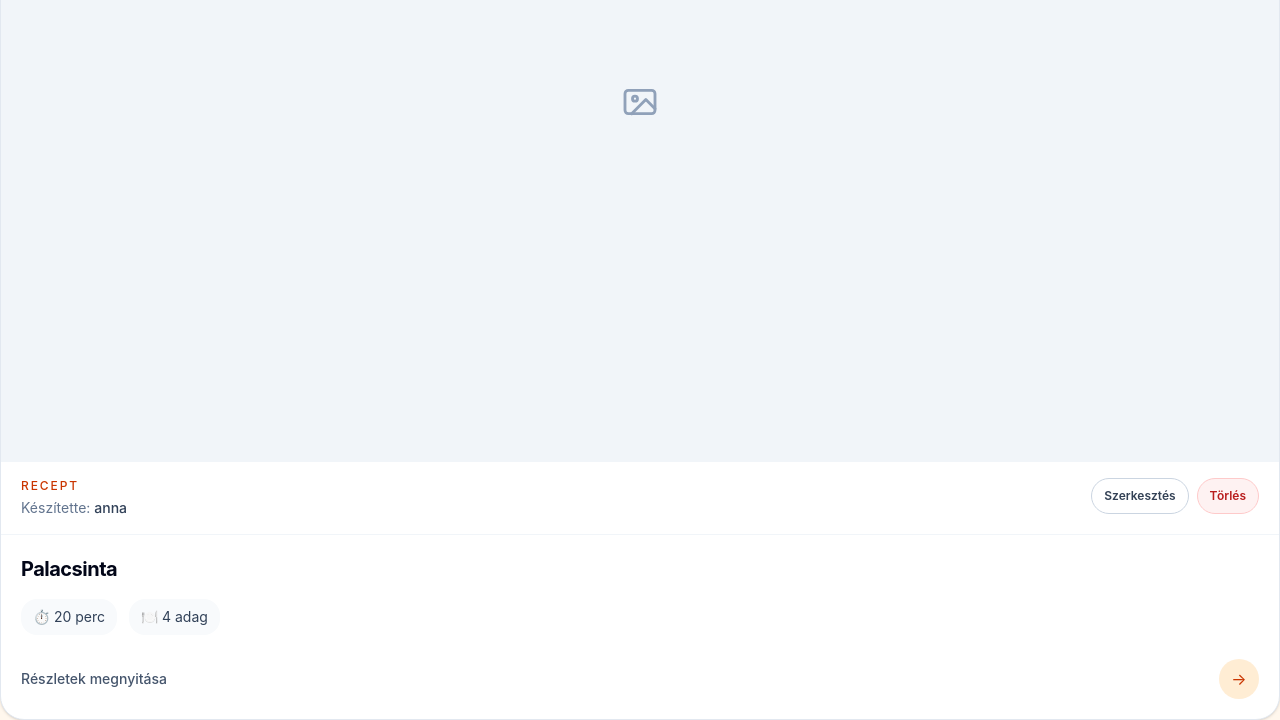
Scenario: RecipeCard › does not delete the recipe when confirmation is cancelled
The width and height of the screenshot is (1280, 720).
(page scrolled)
Click the button "Törlés" at (1228, 496), box [1197, 478, 1259, 514]
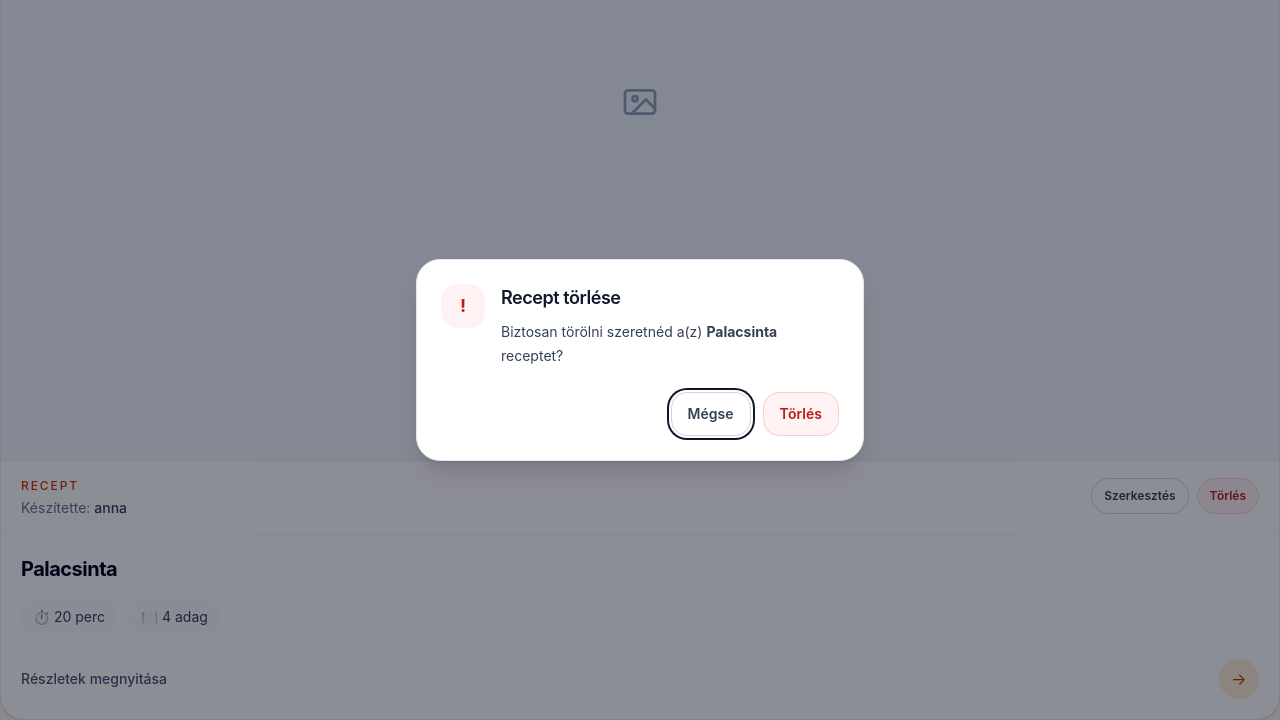
Click the button "Mégse" at (711, 414), box [671, 392, 750, 436]
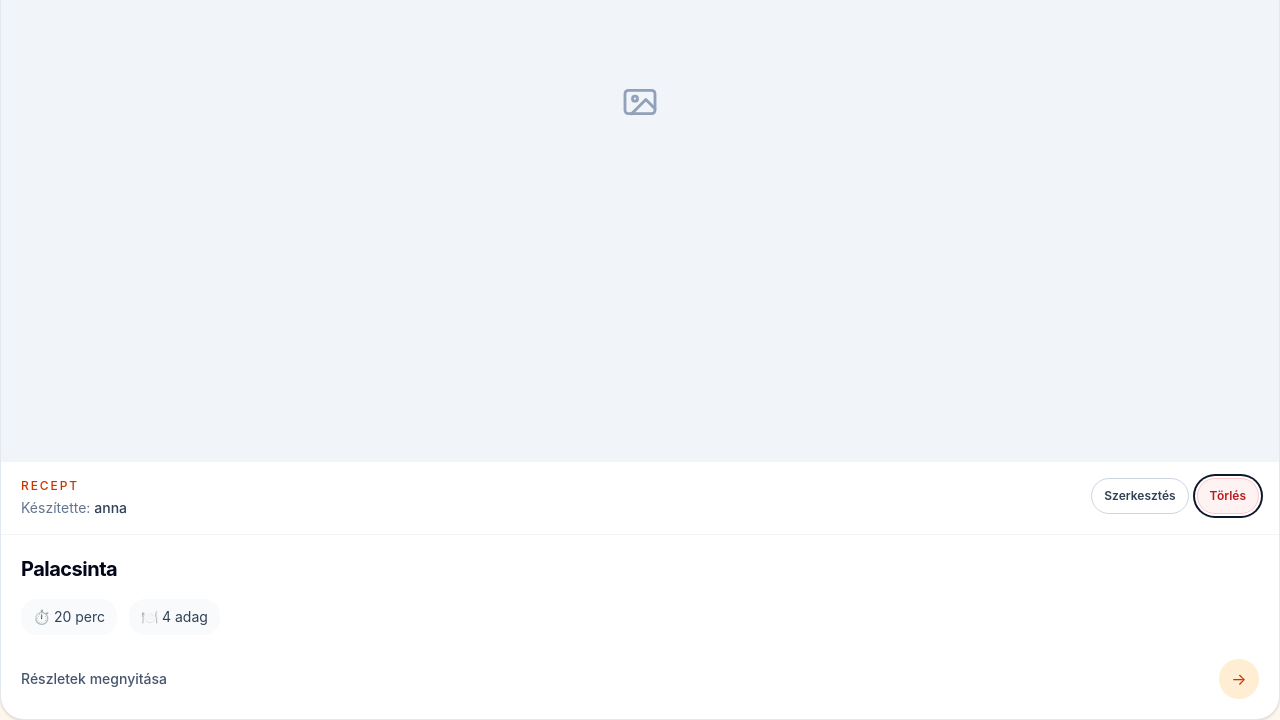
Expected: the dialog is gone
